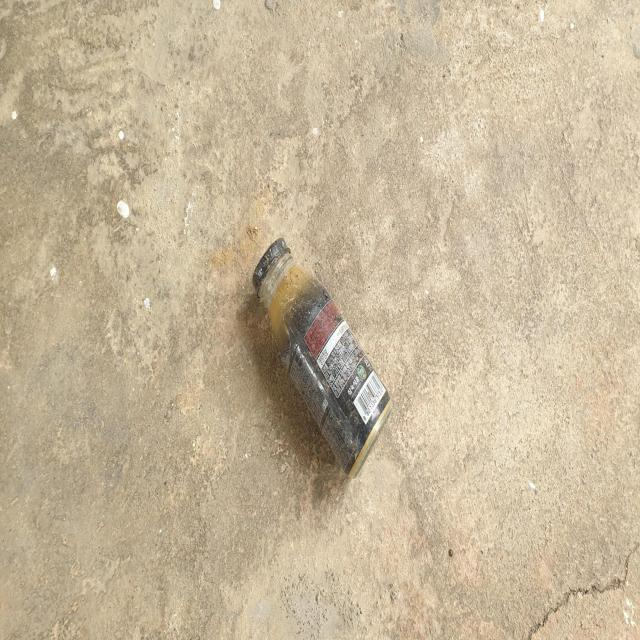glass: (252, 238, 392, 477)
